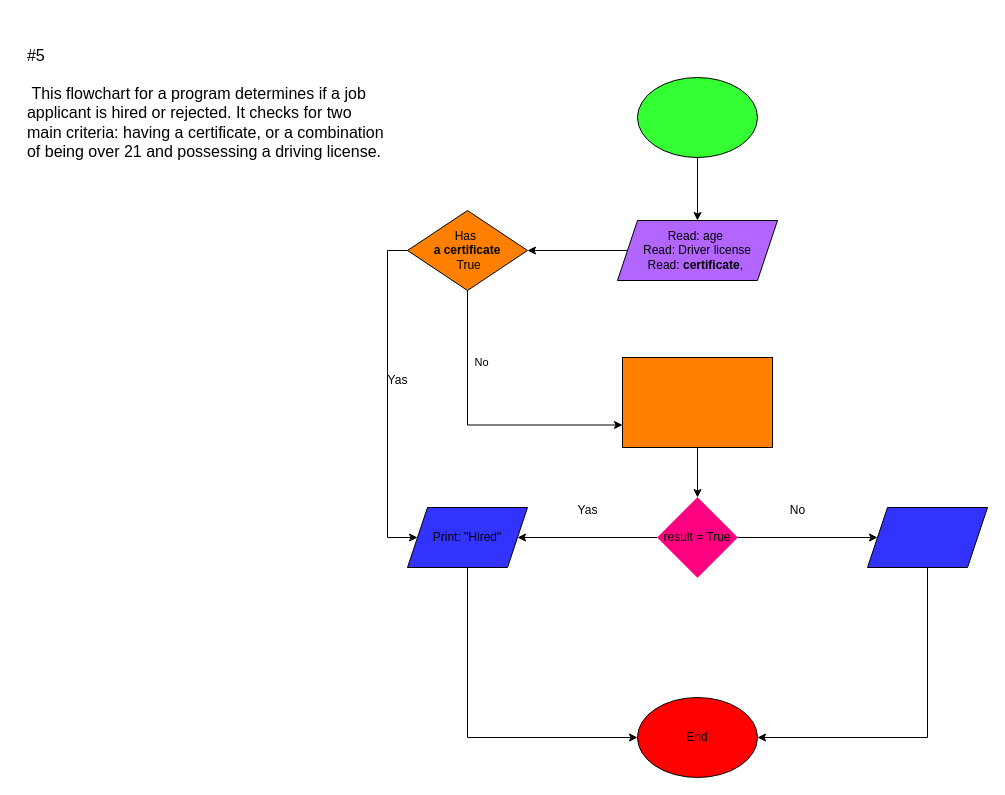
Image size: 1005x795. Some labels were removed from this diagram. The box of each missing label's shape, as (x1, y1, x2, y2) in pixels:
Print: "Rejected": (866, 506, 988, 568)
result = ( age > 21 and has a driver License = True): (622, 356, 772, 448)
start: (636, 76, 758, 158)
